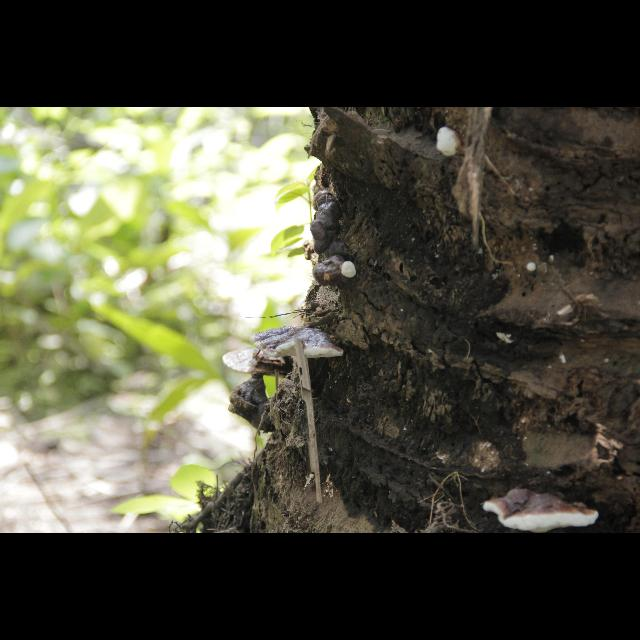ganoderma: (484, 489, 601, 533), (251, 326, 346, 361), (311, 191, 344, 288), (223, 349, 297, 378)
primordium: (435, 127, 463, 158), (342, 262, 358, 280), (526, 263, 538, 274)
